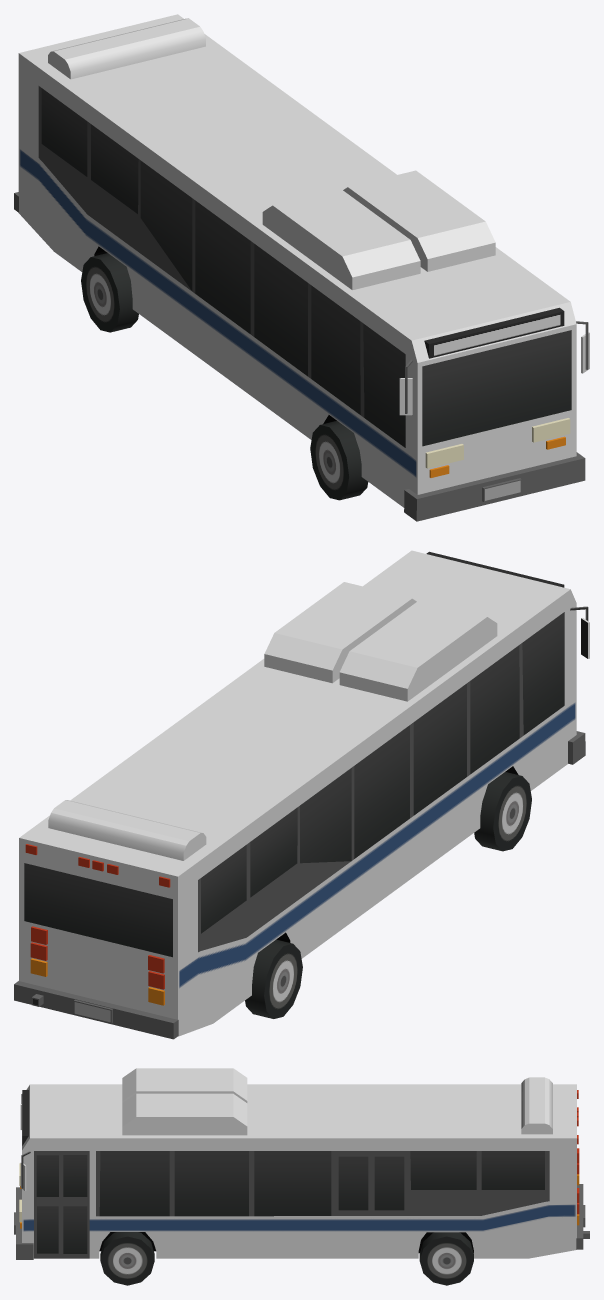
File: Bus.fbx
3 renders of one model, top to bottom at view 1: azimuth 30°, elevation 25°; view 2: azimuth 150°, elevation 25°; view 3: azimuth 270°, elevation 25°, orthographic. The views are drawn at different scales.
Parts seen in each view (by area): view 1: Bus, TireBR, TireFR; view 2: Bus, TireFR, TireBR; view 3: Bus, TireFL, TireBL.
Boxes of the visible parts, left/top/right/bottom form: Bus: left=14, top=14, right=589, bottom=521; TireBR: left=81, top=253, right=138, bottom=332; TireFR: left=310, top=421, right=368, bottom=500; Bus: left=14, top=550, right=589, bottom=1039; TireFR: left=474, top=772, right=531, bottom=851; TireBR: left=245, top=939, right=302, bottom=1018; Bus: left=14, top=1068, right=589, bottom=1259; TireFL: left=100, top=1232, right=154, bottom=1285; TireBL: left=419, top=1232, right=473, bottom=1285.
Bounding box in the file's own units: 242 × 282 × 909.
